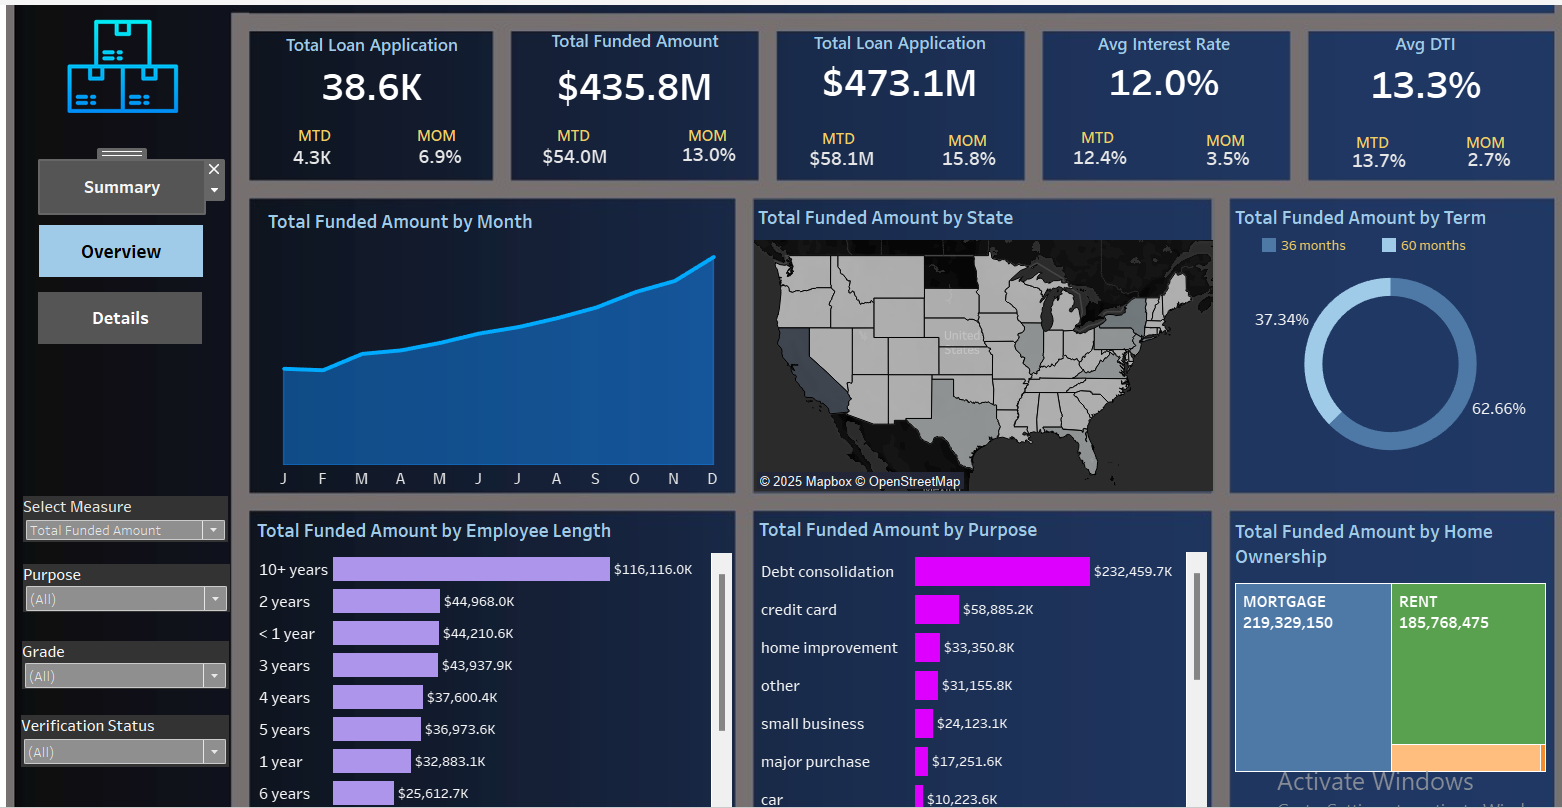

What the dashboard file says about the page in this screenshot:
{"tool":"tableau","page":{"name":"OVERVIEW","canvas":[1600,900],"ordinal":1},"visuals":[{"type":"image","param":"Image/Tableau Background 2.jpg","box":[8,8,1584,884]},{"type":"text","box":[683,26,553,45]},{"type":"image","param":"Image/Avg Price Icon 1.png","box":[72,60,131,143]},{"type":"worksheet","title":"Total Funded Amount","mark":"Automatic","box":[544,92,212,82]},{"type":"worksheet","title":"Total Amount Received","mark":"Automatic","box":[797,94,236,69]},{"type":"worksheet","title":"Avg Interest Rate","mark":"Automatic","box":[1097,95,164,67]},{"type":"worksheet","title":"Avg DTI","mark":"Automatic","box":[1345,95,191,71]},{"type":"worksheet","title":"Total Loan Application","mark":"Automatic","box":[268,96,238,74]},{"type":"text","box":[286,188,87,27]},{"type":"text","box":[408,188,87,27]},{"type":"text","box":[545,188,87,27]},{"type":"text","box":[679,188,87,27]},{"type":"text","box":[1069,190,87,27]},{"type":"text","box":[810,191,87,27]},{"type":"text","box":[939,193,87,27]},{"type":"text","box":[1197,193,87,27]},{"type":"worksheet","title":"MTD Avg INT Rate","mark":"Automatic","box":[1055,195,120,58]},{"type":"text","box":[1344,195,87,27]},{"type":"text","box":[1457,195,87,27]},{"type":"worksheet","title":"MOM Avg INT Rate","mark":"Automatic","box":[1193,197,99,56]},{"type":"worksheet","title":"MOM Total Funded Amount","mark":"Automatic","box":[693,200,62,41]},{"type":"worksheet","title":"MTD Total Amount Received","mark":"Automatic","box":[816,200,81,50]},{"type":"worksheet","title":"MOM Avg DTI","mark":"Automatic","box":[1448,200,112,52]},{"type":"worksheet","title":"MTD Total Funded Amount","mark":"Automatic","box":[552,204,75,37]},{"type":"worksheet","title":"MOM Total Amount Received","mark":"Automatic","box":[931,204,105,42]},{"type":"worksheet","title":"MTD Avg DTI","mark":"Automatic","box":[1346,204,96,45]},{"type":"worksheet","title":"MTD Total Loan Application","mark":"Automatic","box":[278,208,98,32]},{"type":"worksheet","title":"MOM Loan Application","mark":"Automatic","box":[428,209,54,28]},{"type":"dashboard-object","box":[55,228,164,52]},{"type":"worksheet","title":"State","mark":"Multipolygon","box":[769,267,459,291]},{"type":"worksheet","title":"Term","mark":"Pie","rows":["Calculation_495958954009382914","Calculation_495958954009382914"],"box":[1246,267,319,288]},{"type":"worksheet","title":"Month","mark":"Area","rows":["Calculation_495958953648214016","Calculation_495958953648214016"],"cols":["issue_date"],"box":[279,271,469,286]},{"type":"dashboard-object","box":[54,292,164,52]},{"type":"legend","title":"Term","param":"[federated.0sdrijq1i1pcek18e7fb21wz9e7l].[none:term:nk]","box":[1274,302,262,31]},{"type":"dashboard-object","box":[53,359,164,52]},{"type":"parameter","param":"[Parameters].[Parameter 1]","box":[38,563,205,46]},{"type":"worksheet","title":"Purpose","mark":"Automatic","rows":["purpose"],"cols":["Calculation_495958953648214016"],"box":[770,579,452,299]},{"type":"worksheet","title":"Emp length","mark":"Automatic","rows":["emp_length"],"cols":["Calculation_495958953648214016"],"box":[268,580,479,296]},{"type":"worksheet","title":"Home Own","mark":"Automatic","box":[1246,581,318,295]},{"type":"filter","title":"Avg DTI","param":"[federated.0sdrijq1i1pcek18e7fb21wz9e7l].[none:purpose:nk]","box":[38,631,207,48]},{"type":"filter","title":"Avg DTI","param":"[federated.0sdrijq1i1pcek18e7fb21wz9e7l].[none:grade:nk]","box":[37,708,207,48]},{"type":"filter","title":"Avg DTI","param":"[federated.0sdrijq1i1pcek18e7fb21wz9e7l].[none:verification_status:nk]","box":[36,782,208,52]}]}

Visuals, with their boxes on the page's 1600x900 design canvas (x1, y1, x2, y2). These are canvas units, not pixel positions in the 1562x808 screenshot, which may show the page scaled, cropped or inside an application window:
image: 8/8/1592/892
text: 683/26/1236/71
image: 72/60/203/203
"Total Funded Amount" worksheet: 544/92/756/174
"Total Amount Received" worksheet: 797/94/1033/163
"Avg Interest Rate" worksheet: 1097/95/1261/162
"Avg DTI" worksheet: 1345/95/1536/166
"Total Loan Application" worksheet: 268/96/506/170
text: 286/188/373/215
text: 408/188/495/215
text: 545/188/632/215
text: 679/188/766/215
text: 1069/190/1156/217
text: 810/191/897/218
text: 939/193/1026/220
text: 1197/193/1284/220
"MTD Avg INT Rate" worksheet: 1055/195/1175/253
text: 1344/195/1431/222
text: 1457/195/1544/222
"MOM Avg INT Rate" worksheet: 1193/197/1292/253
"MOM Total Funded Amount" worksheet: 693/200/755/241
"MTD Total Amount Received" worksheet: 816/200/897/250
"MOM Avg DTI" worksheet: 1448/200/1560/252
"MTD Total Funded Amount" worksheet: 552/204/627/241
"MOM Total Amount Received" worksheet: 931/204/1036/246
"MTD Avg DTI" worksheet: 1346/204/1442/249
"MTD Total Loan Application" worksheet: 278/208/376/240
"MOM Loan Application" worksheet: 428/209/482/237
dashboard-object: 55/228/219/280
"State" worksheet (Multipolygon marks): 769/267/1228/558
"Term" worksheet (Pie marks): 1246/267/1565/555
"Month" worksheet (Area marks): 279/271/748/557
dashboard-object: 54/292/218/344
"Term" legend: 1274/302/1536/333
dashboard-object: 53/359/217/411
parameter: 38/563/243/609
"Purpose" worksheet: 770/579/1222/878
"Emp length" worksheet: 268/580/747/876
"Home Own" worksheet: 1246/581/1564/876
"Avg DTI" filter: 38/631/245/679
"Avg DTI" filter: 37/708/244/756
"Avg DTI" filter: 36/782/244/834
